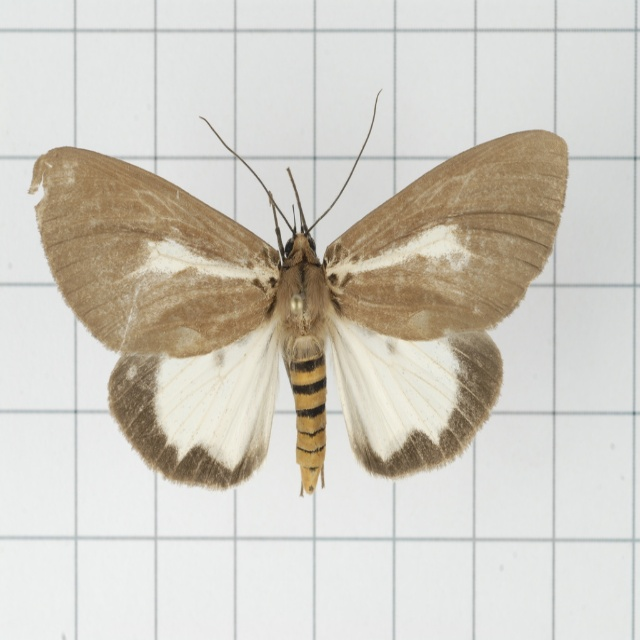Butterfly: (30, 85, 571, 498)
